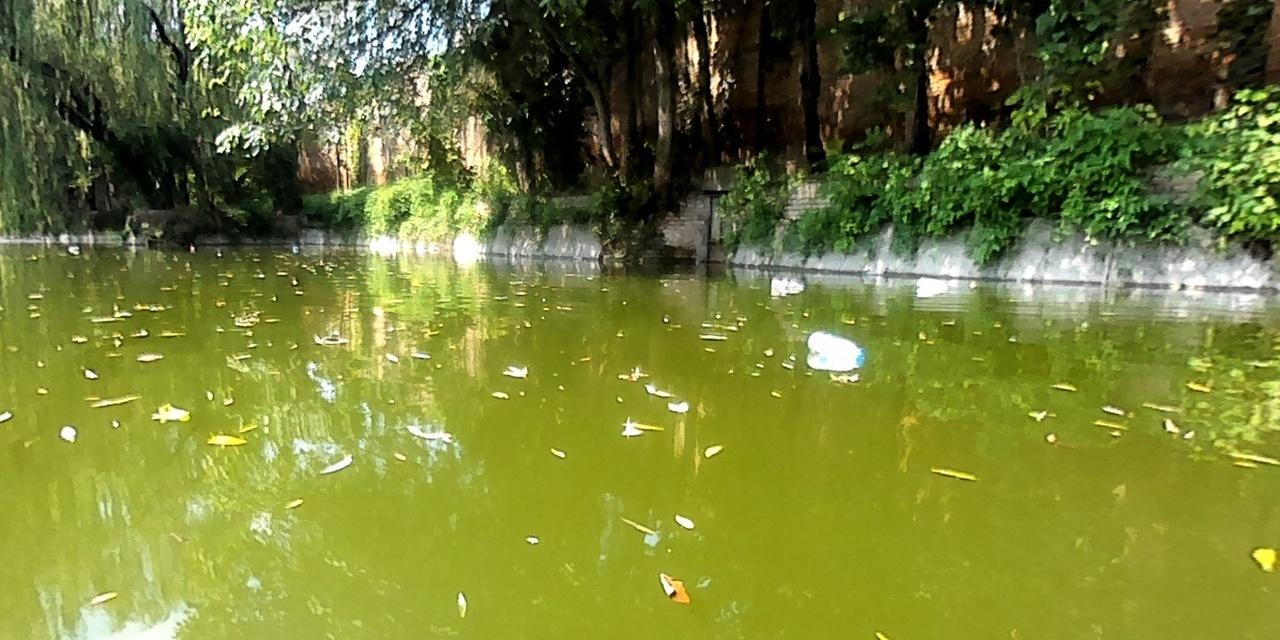bottle: (804, 329, 865, 366), (767, 275, 805, 290)
